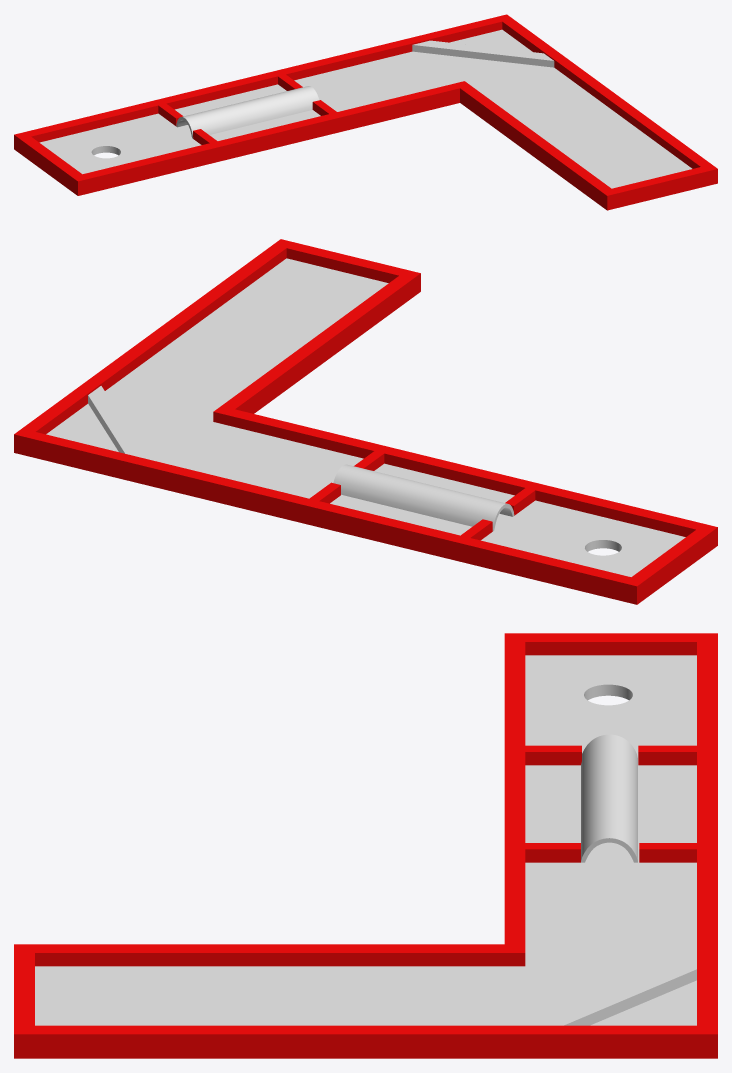
File: BahnM3.fbx
3 renders of one model, top to bottom at view 1: azimuth 30°, elevation 25°; view 2: azimuth 150°, elevation 25°; view 3: azimuth 270°, elevation 25°, orthographic. The views are drawn at different scales.
Parts seen in each view (by area): view 1: Track3; view 2: Track3; view 3: Track3.
Boxes of the visible parts, box(x1,y1,x2,y2) form: Track3: box(14, 14, 717, 210); Track3: box(14, 239, 717, 604); Track3: box(14, 633, 717, 1058).
Bounding box in the file's own units: 387 × 16.02 × 287.
